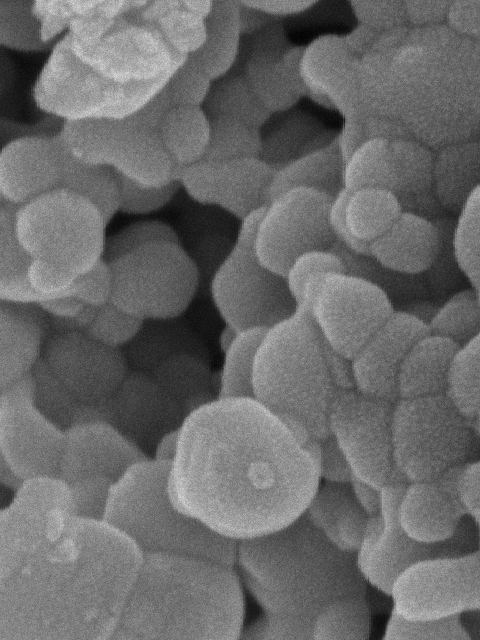nano: (12, 189, 107, 298), (340, 183, 402, 242), (239, 452, 285, 495)
